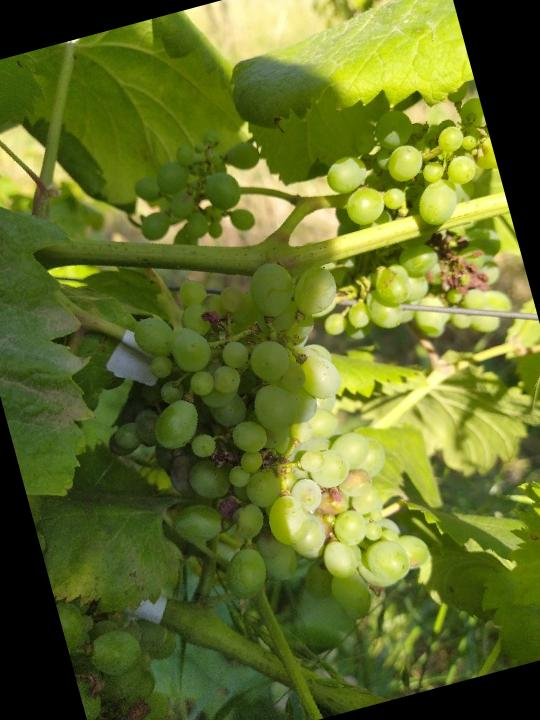grape: (68, 233, 444, 675), (270, 82, 538, 376), (115, 117, 281, 261)
